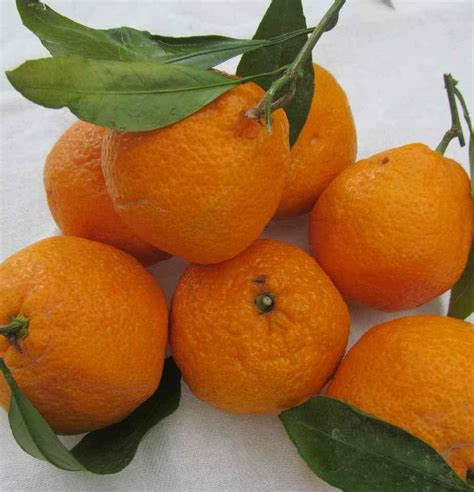orange: (100, 65, 284, 275), (1, 233, 170, 426), (172, 234, 353, 412), (307, 135, 474, 316)
